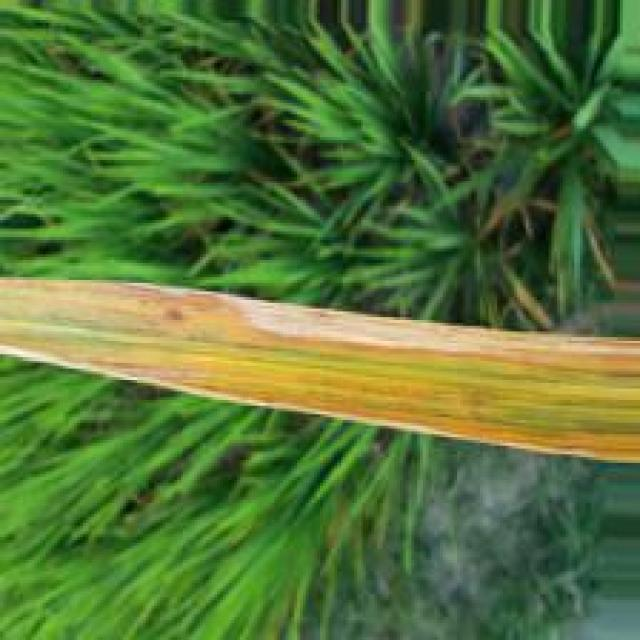Bacterial_Leaf_Blight: (0, 273, 640, 466)
